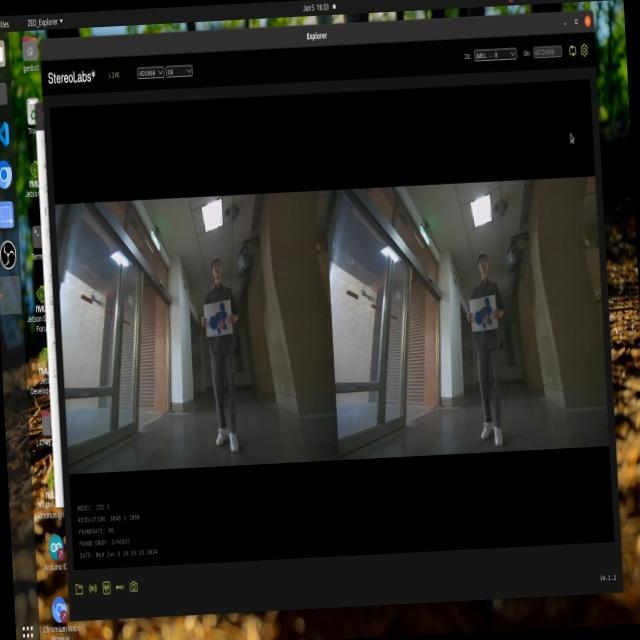blue: (471, 298, 502, 330), (205, 301, 232, 335)
